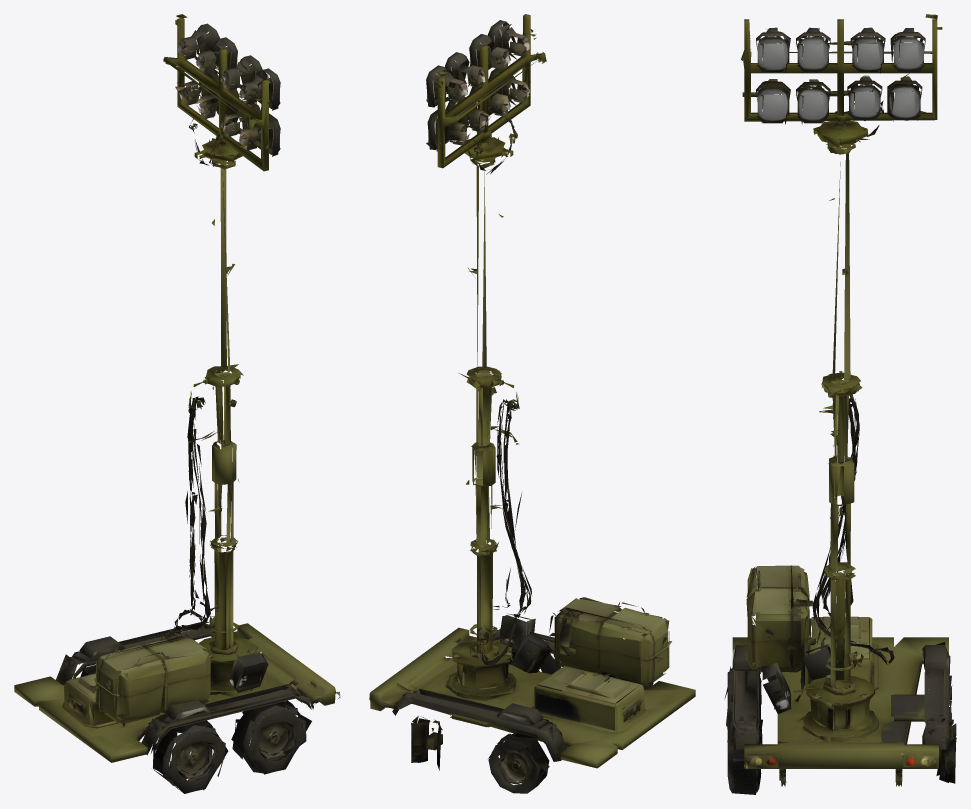
File: ch4_mobile_light_tower_LOD2.glb
3 views of the same model, side by side, from view 1: azimuth 30°, elevation 25°; view 2: azimuth 150°, elevation 25°; view 3: azimuth 270°, elevation 25° (orthographic). The views are drawn at different scales.
Parts seen in each view (by area): view 1: tripo_node_c0f13101-130a-4c5d-920d-0b0e6c6459a0; view 2: tripo_node_c0f13101-130a-4c5d-920d-0b0e6c6459a0; view 3: tripo_node_c0f13101-130a-4c5d-920d-0b0e6c6459a0.
Part boxes in pixels (x1,y1,x2,y2): tripo_node_c0f13101-130a-4c5d-920d-0b0e6c6459a0: [14, 14, 340, 793]; tripo_node_c0f13101-130a-4c5d-920d-0b0e6c6459a0: [369, 14, 695, 793]; tripo_node_c0f13101-130a-4c5d-920d-0b0e6c6459a0: [724, 14, 956, 794].
Bounding box in the file's own units: 0.3574 × 1.01 × 0.2735.
1 material, 1 textured.
